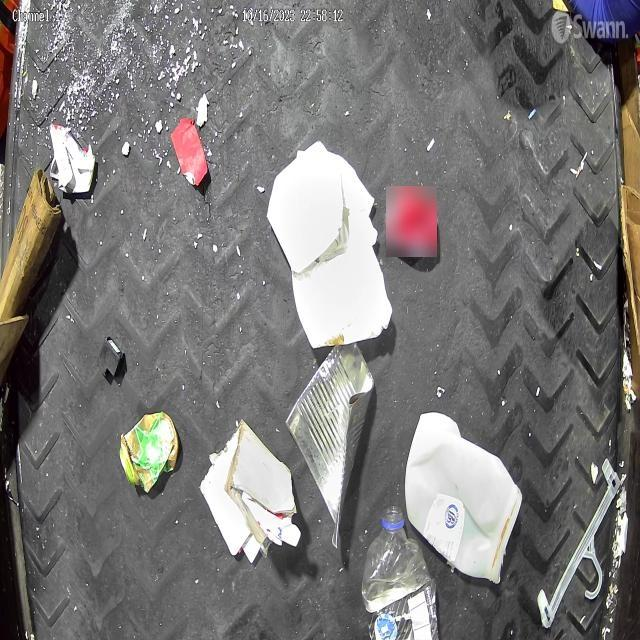milk_jug: (403, 411, 522, 584)
plastic_bottle: (361, 503, 438, 640)
